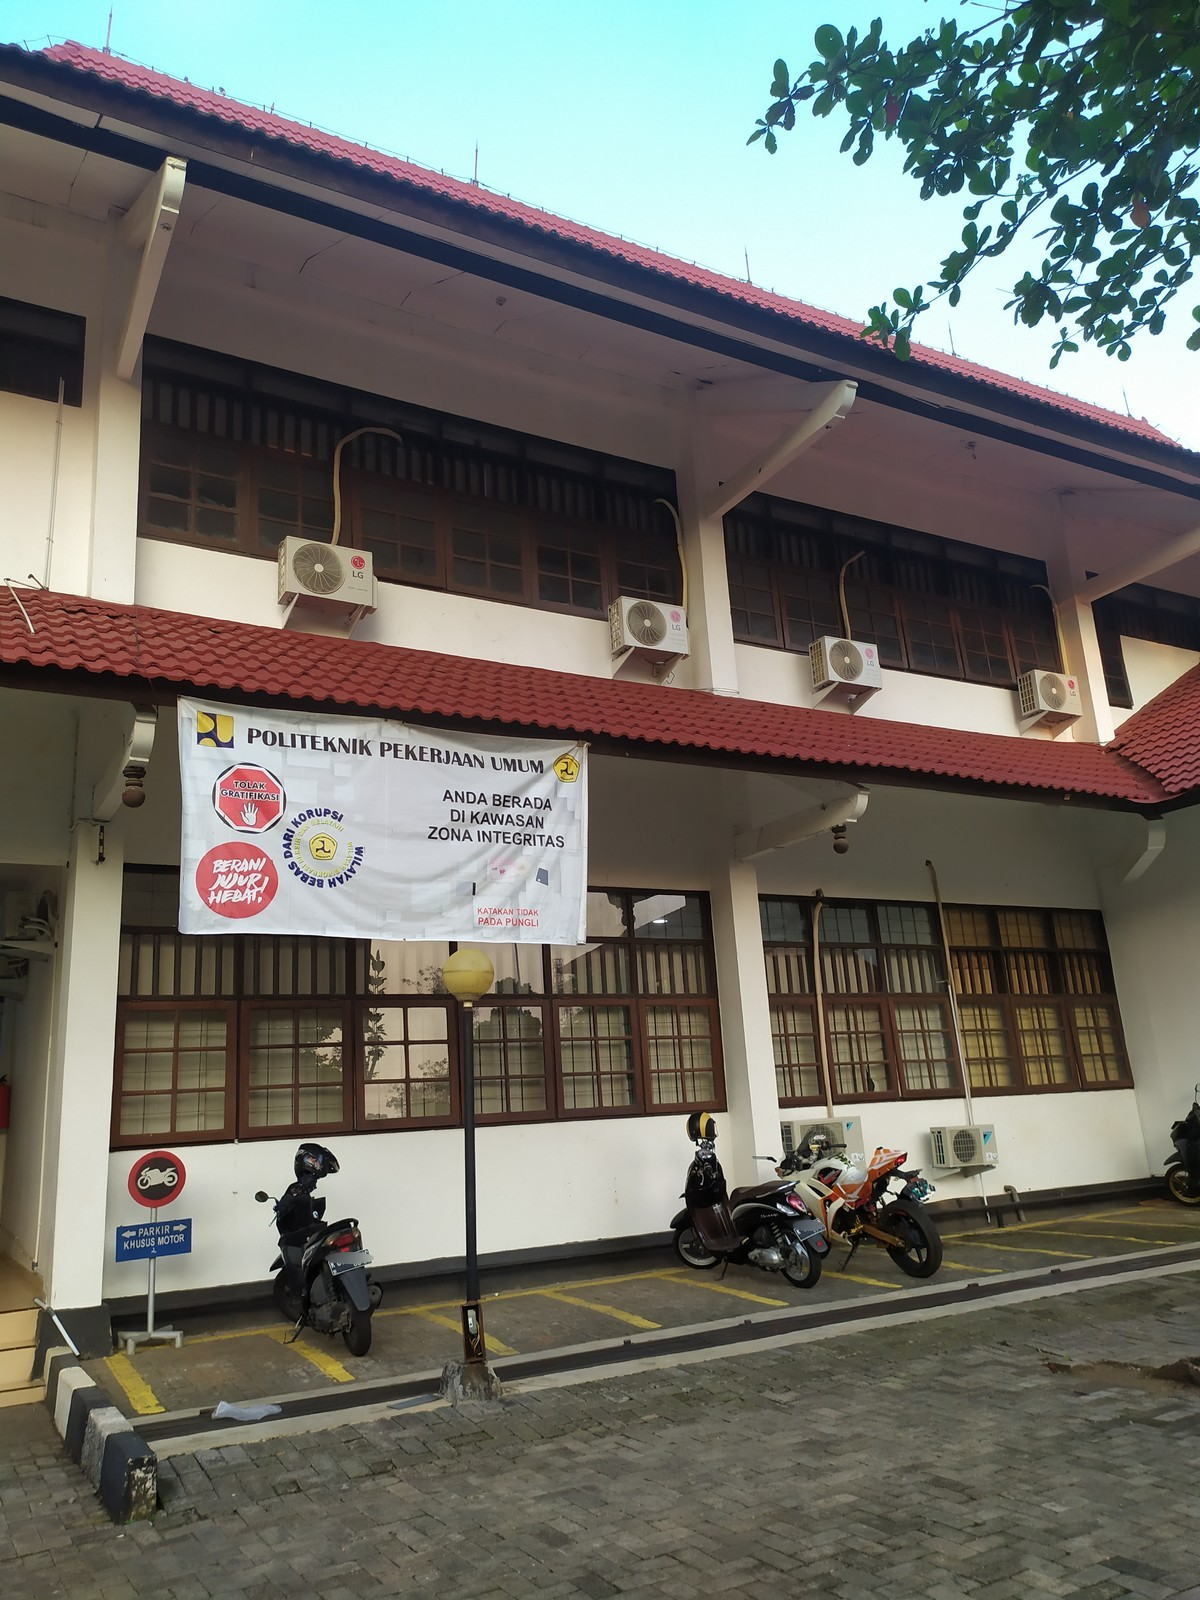concrete column: (39, 707, 129, 1308), (705, 797, 792, 1179), (77, 231, 154, 607), (667, 379, 746, 700)
